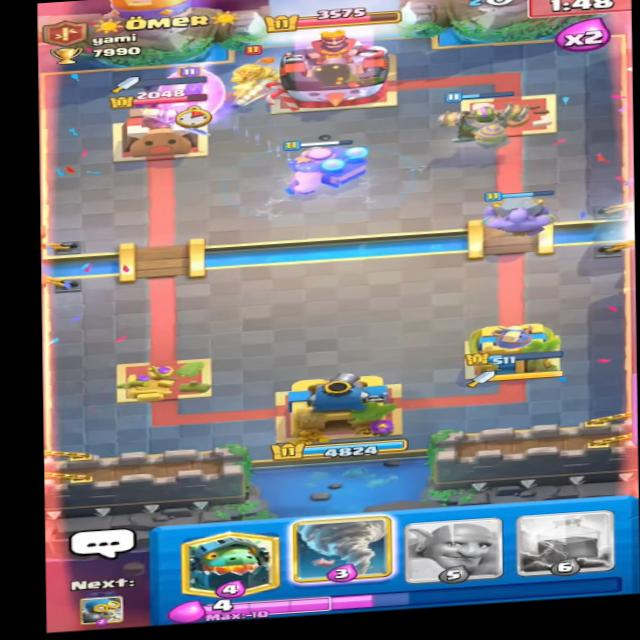evo-wizard: (150, 58, 232, 124)
prince: (226, 56, 289, 112)
